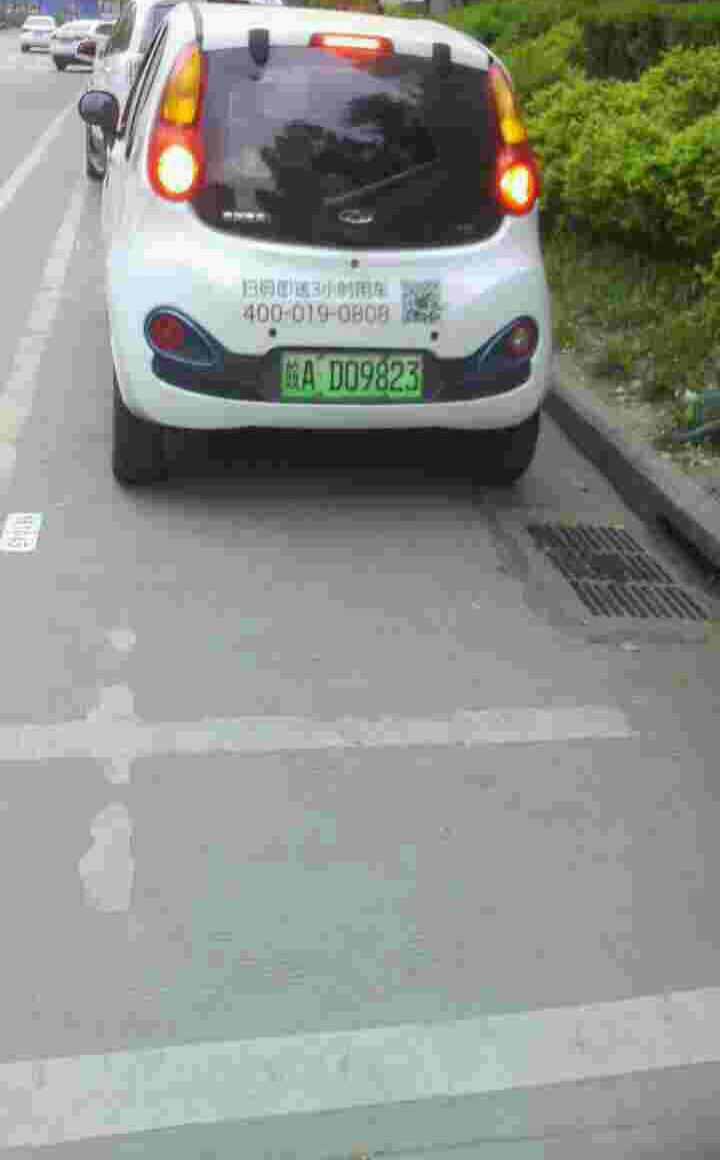car: (279, 344, 431, 401)
